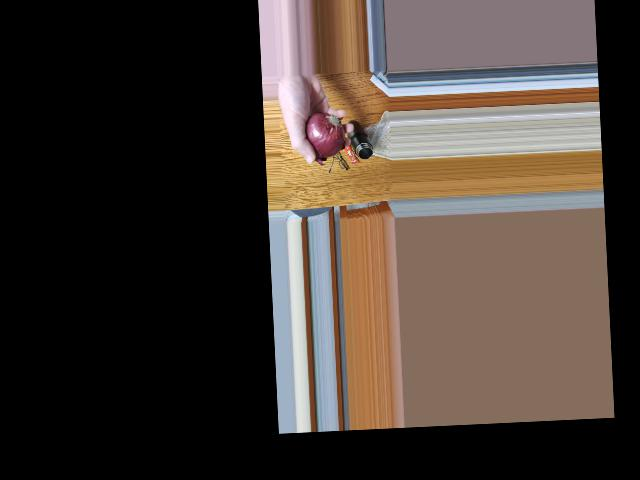onion: (308, 118, 345, 156)
